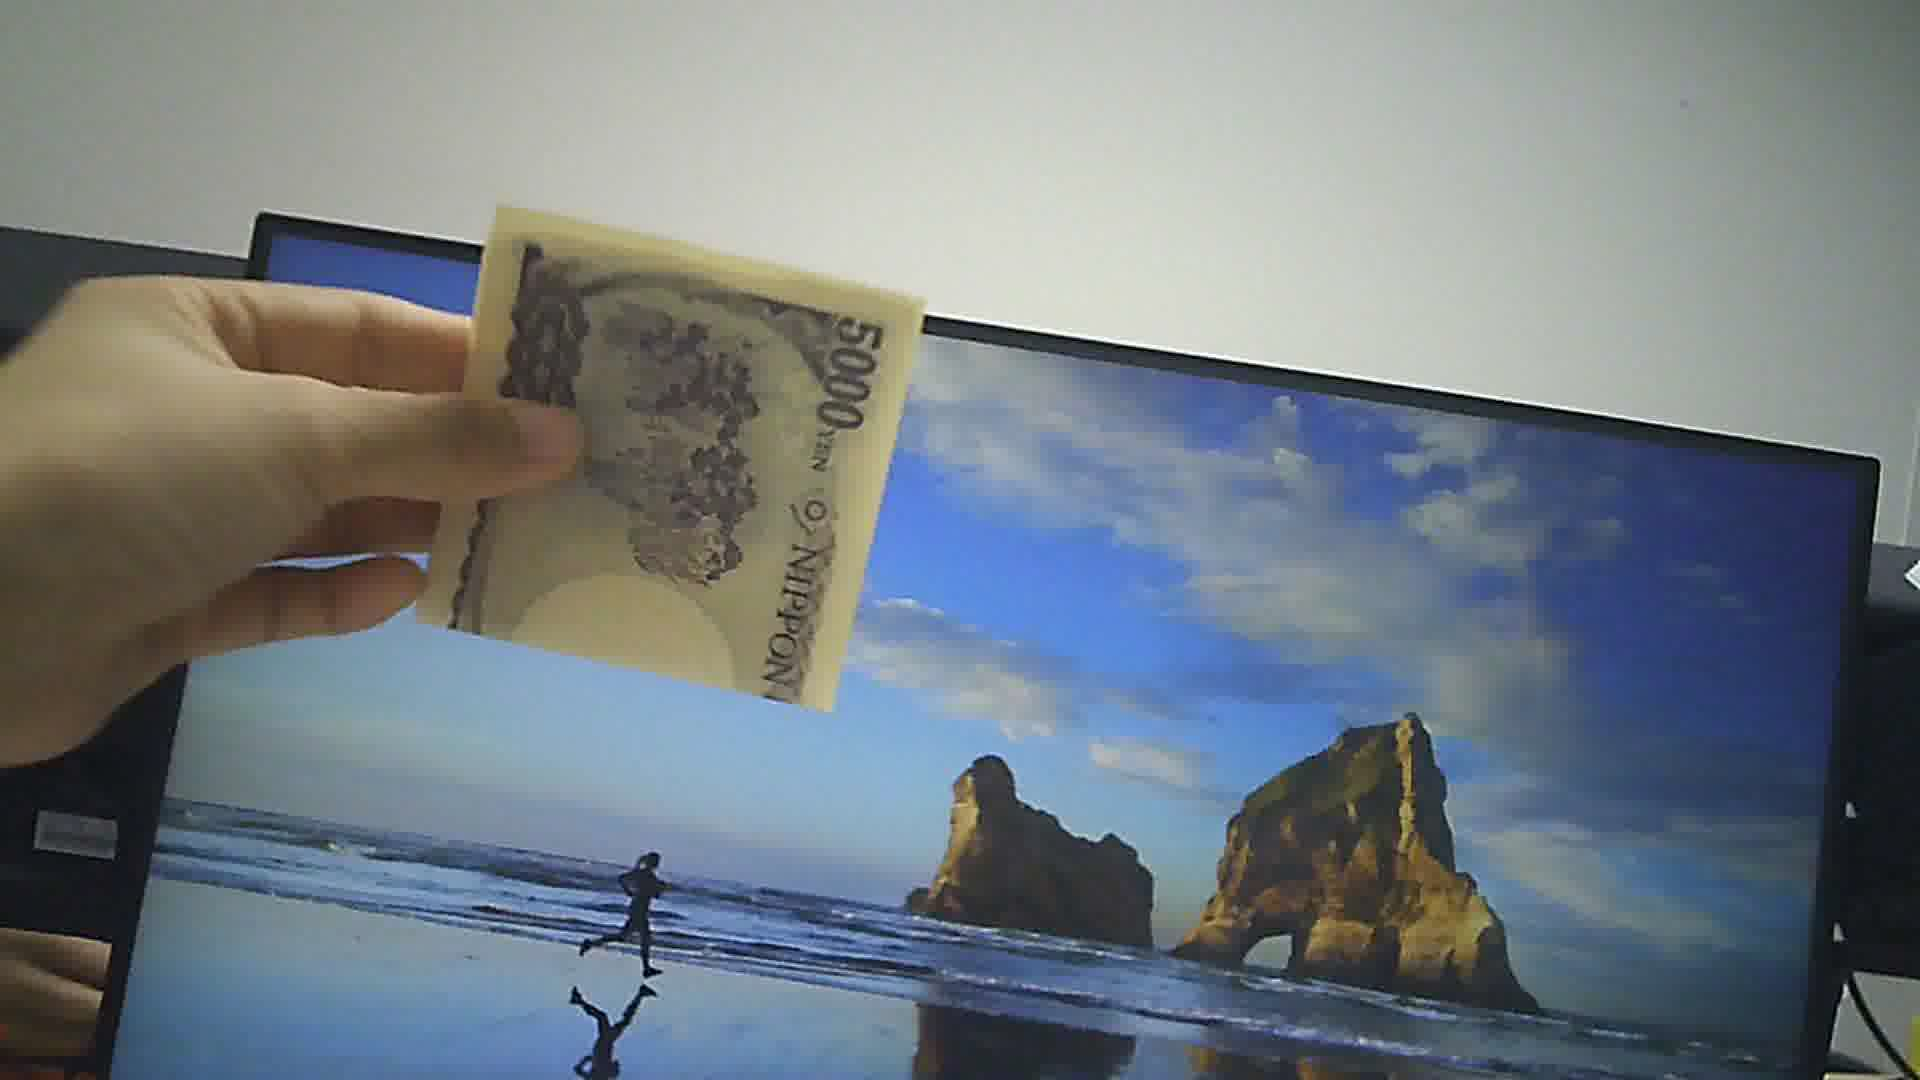5,000 Yen: (425, 186, 947, 727)
